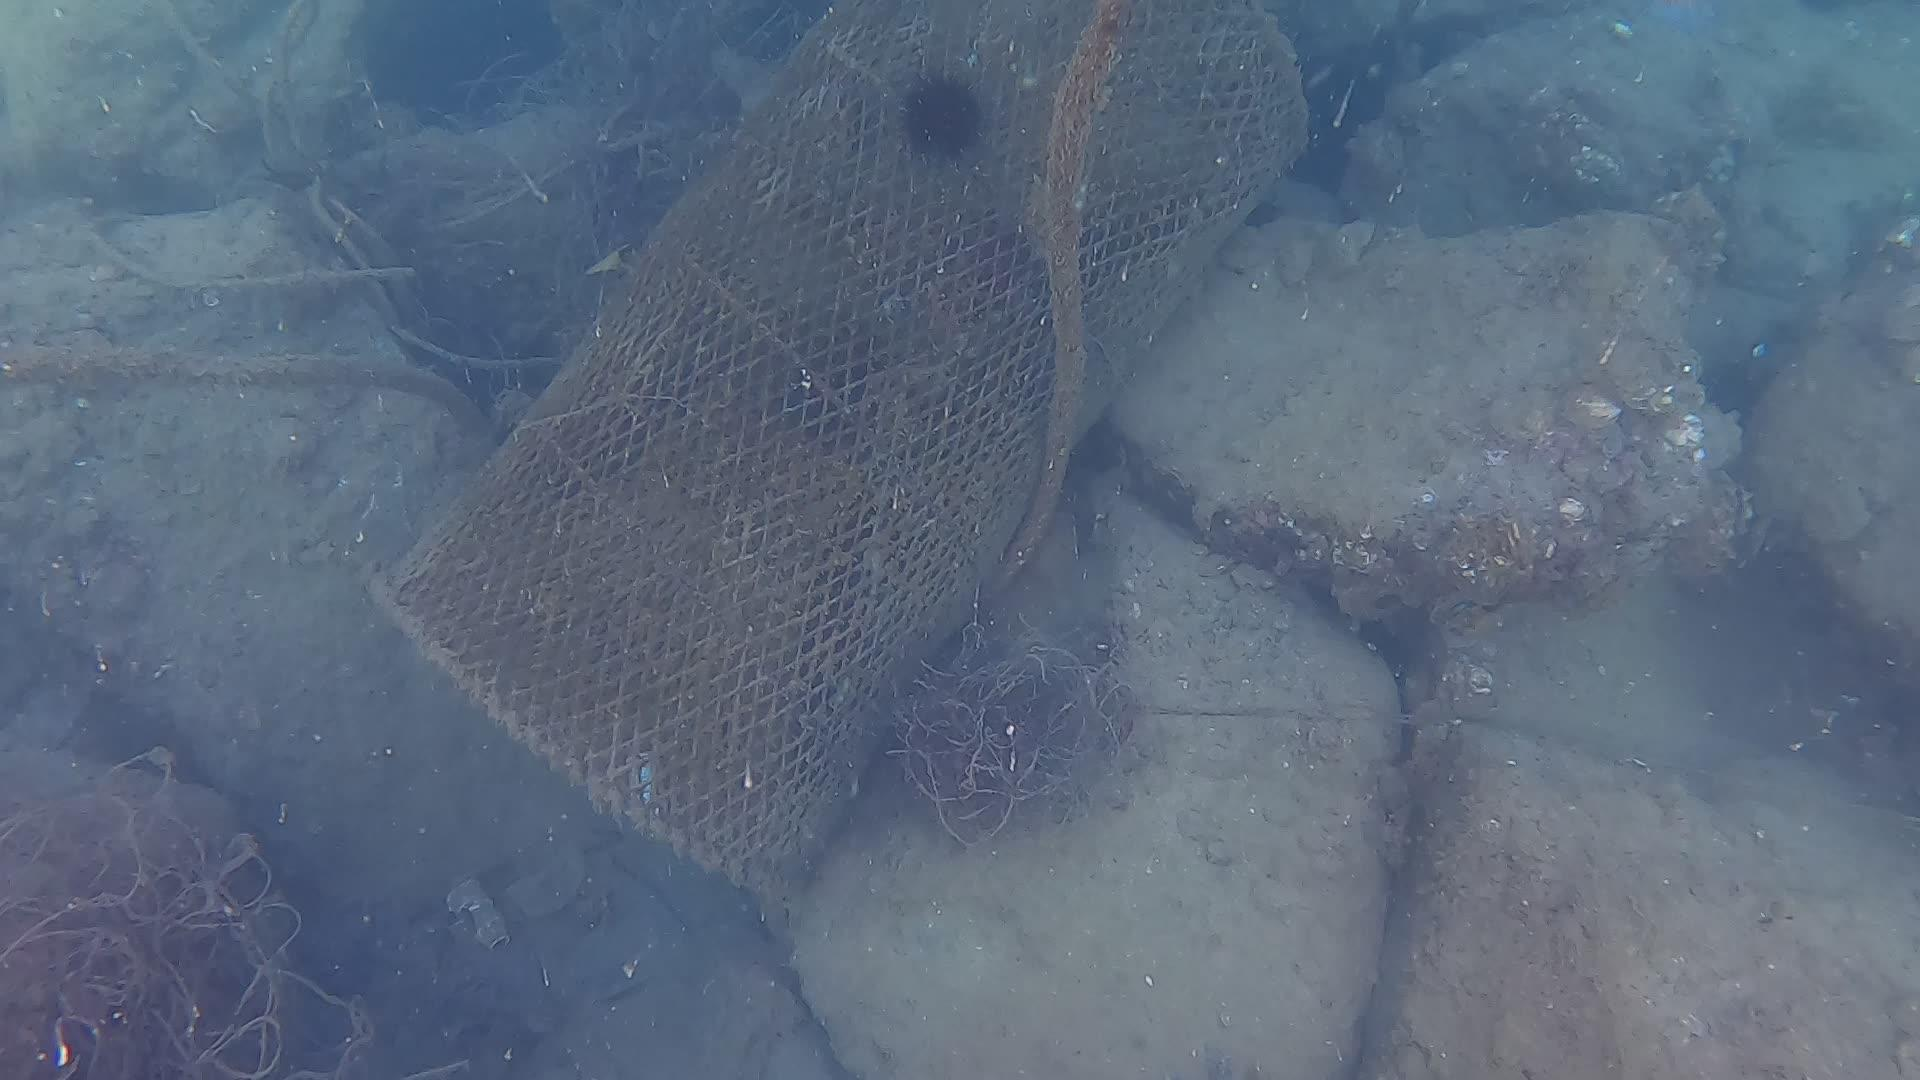spring fish trap: (365, 7, 1311, 885)
